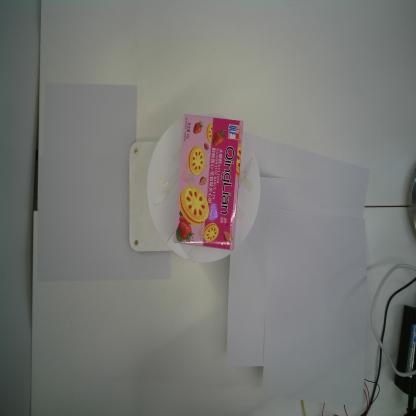Dessert: (172, 113, 243, 250)
